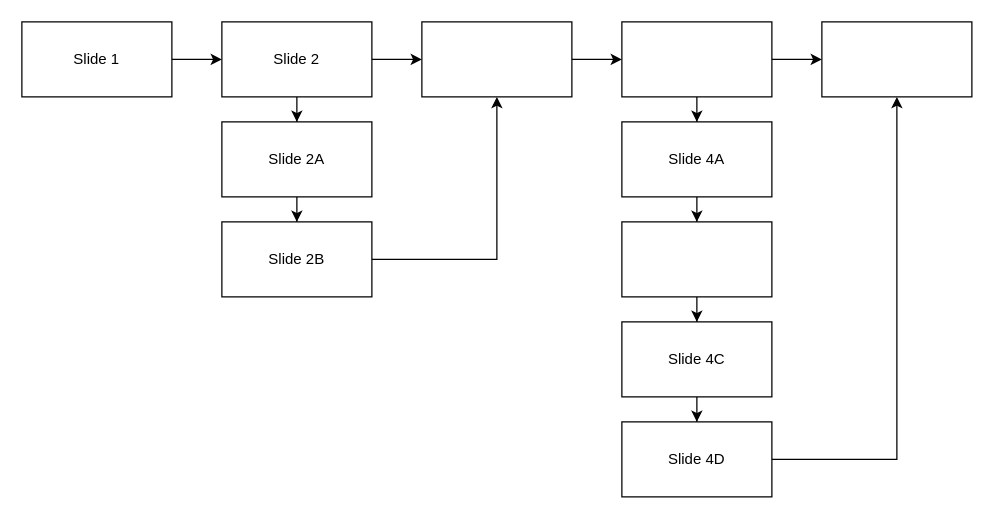
The diagram is 994 pixels wide and 519 high, and some of its shapes have lost their labels. The shapes that lost their labels are listed below. From the top down, each one's centre as x and y in pixels, then its label:
At (x=496, y=59): "Slide 3".
At (x=696, y=59): "Slide 4".
At (x=896, y=59): "Slide 5".
At (x=696, y=259): "Slide 4B".
